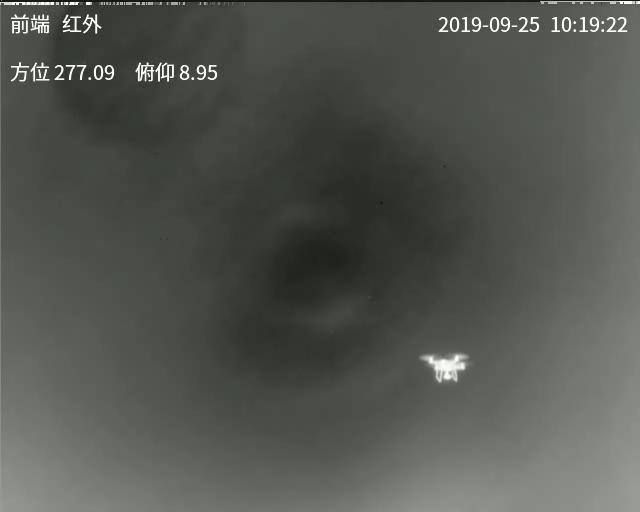uav: (418, 352, 476, 384)
